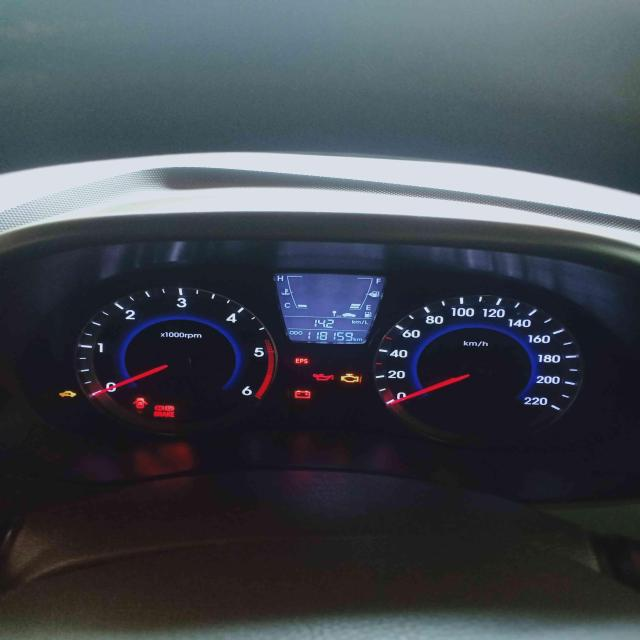Charging System Issue: (294, 390, 312, 399), (154, 405, 164, 411)
Check Engine: (340, 374, 360, 384)
Low Engine Oil Warning Light: (312, 373, 335, 381)
